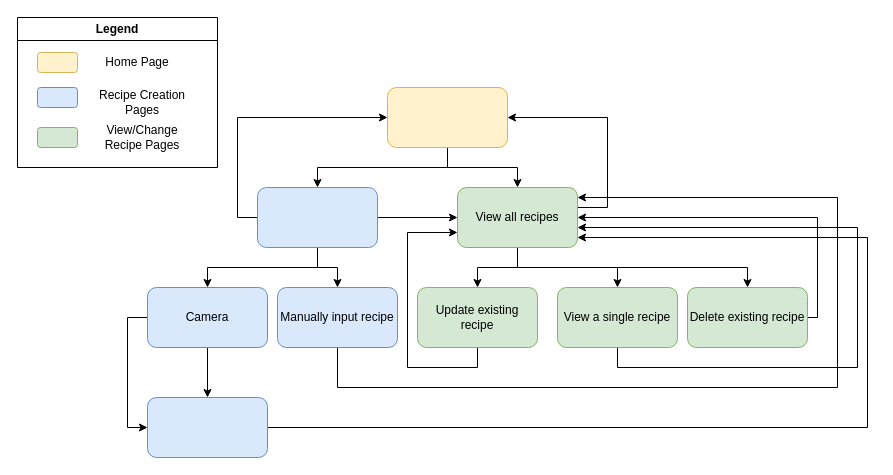
Some shapes in this 893 by 475 pixel diagram are drawn without their labels. Here are the shapes that lost their labels. From the top down, the centre of each, then its label:
At (447,117): "Home".
At (317,217): "Create new recipe".
At (207,427): "Format Recipe".
